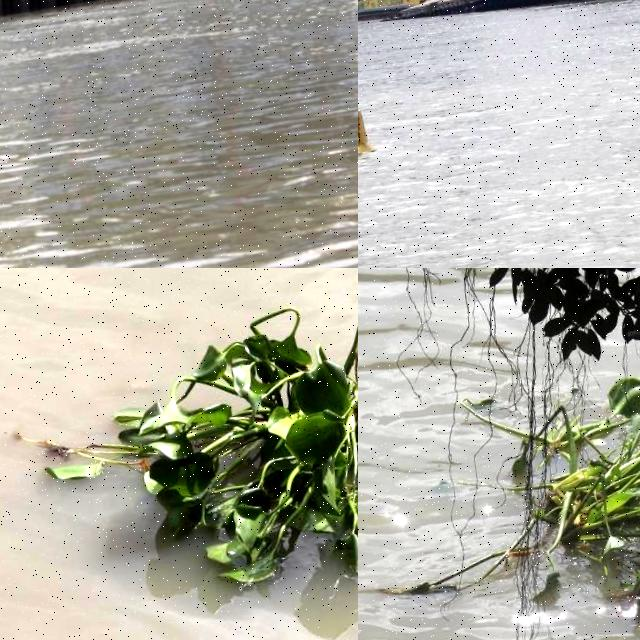water-hyacinth: (10, 276, 357, 589), (474, 338, 640, 609)
